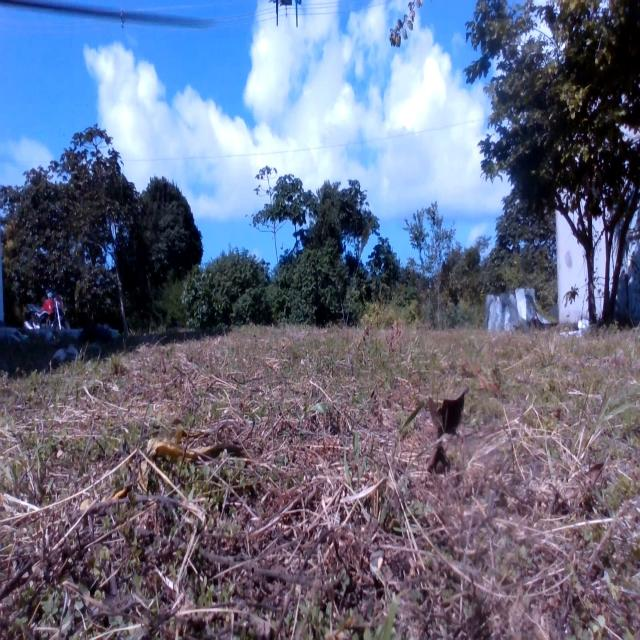-uav-: (268, 0, 304, 35)
